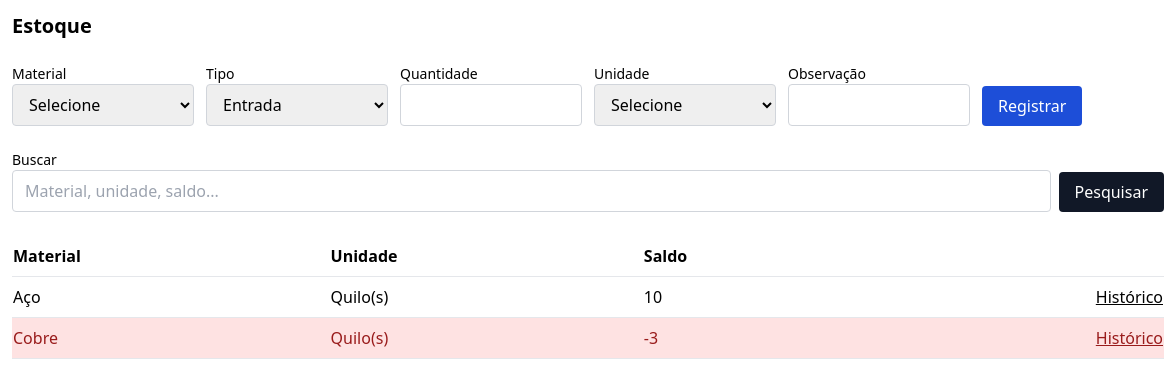
it: EstoquePage › registra entrada e atualiza a lista
The width and height of the screenshot is (1176, 376).
Expected: the cell "Aço" is shown, x1=12 y1=276 x2=330 y2=318
Select "Aço (Quilo(s))" in the dropdown labelled "Material": (103, 105) x1=12 y1=84 x2=194 y2=126
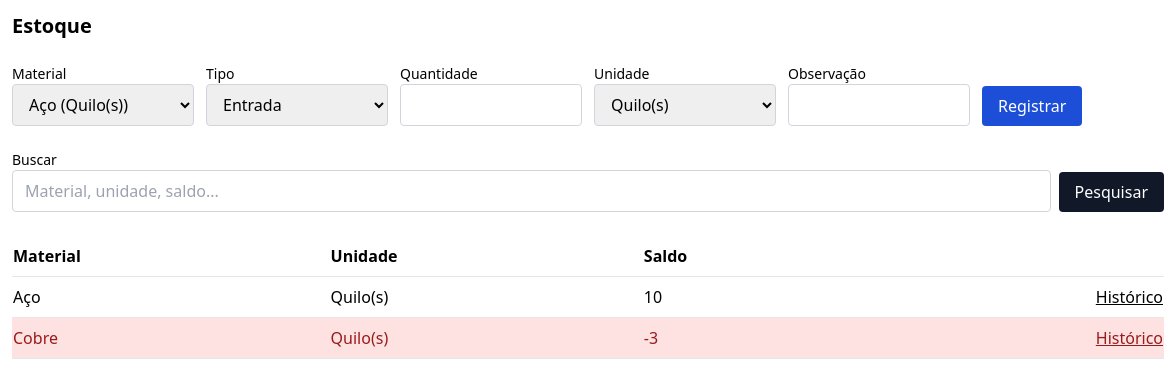
Select "Entrada" in the dropdown labelled "Tipo": (297, 105) x1=206 y1=84 x2=388 y2=126
In the number field labelled "Quantidade": (491, 105) x1=400 y1=84 x2=582 y2=126, type "5"
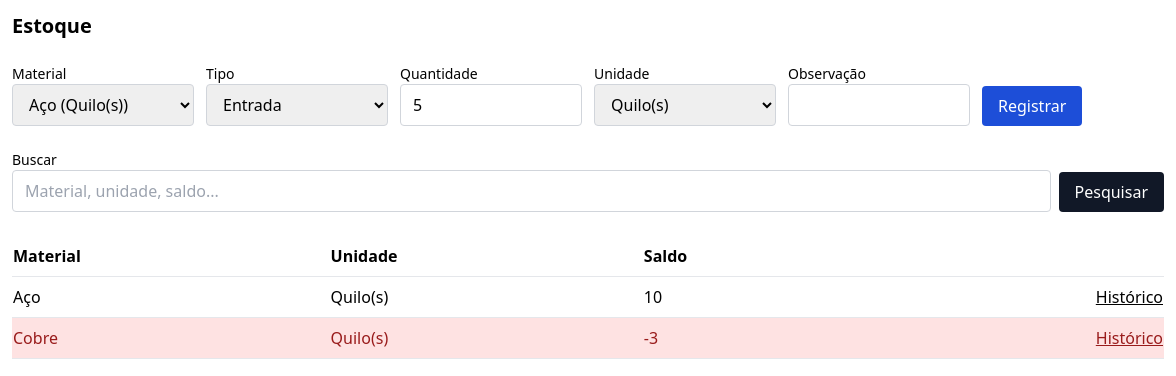
In the field labelled "Observação": (879, 105) x1=788 y1=84 x2=970 y2=126, type "  nota  "
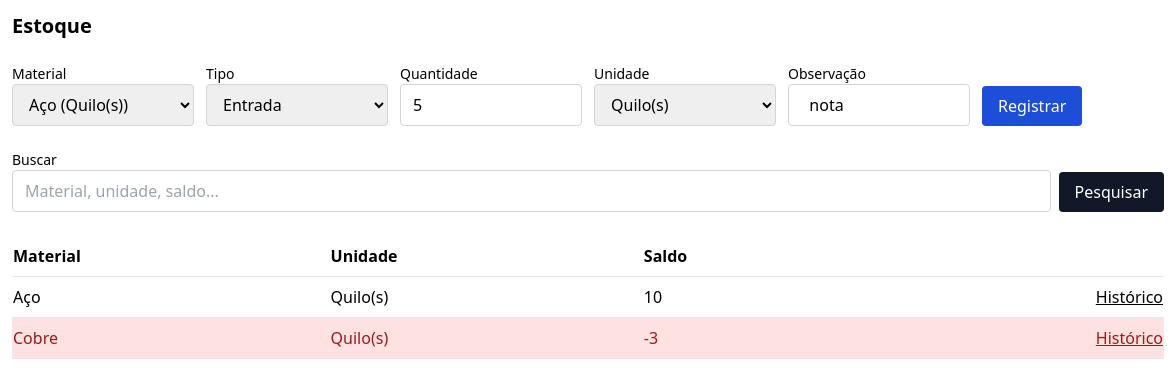
Click the button "Registrar": (1032, 106) x1=982 y1=86 x2=1082 y2=126
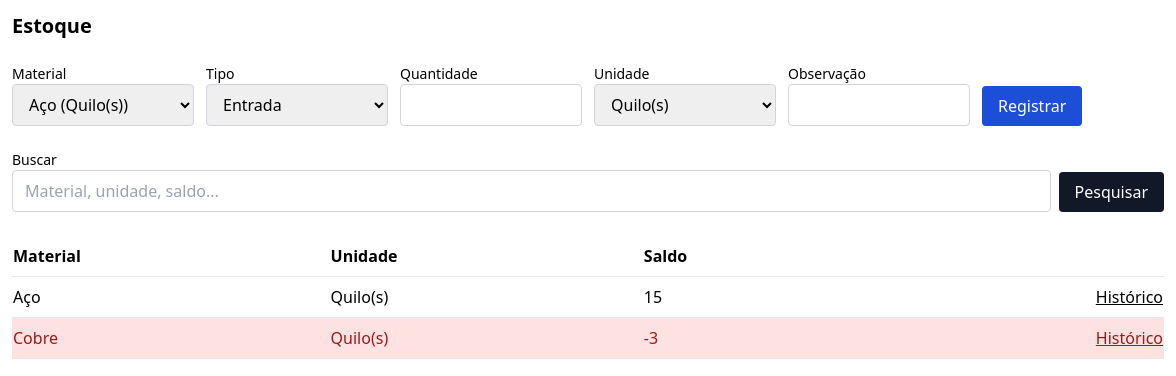
Expected: the cell "15" is shown, x1=643 y1=276 x2=849 y2=318
